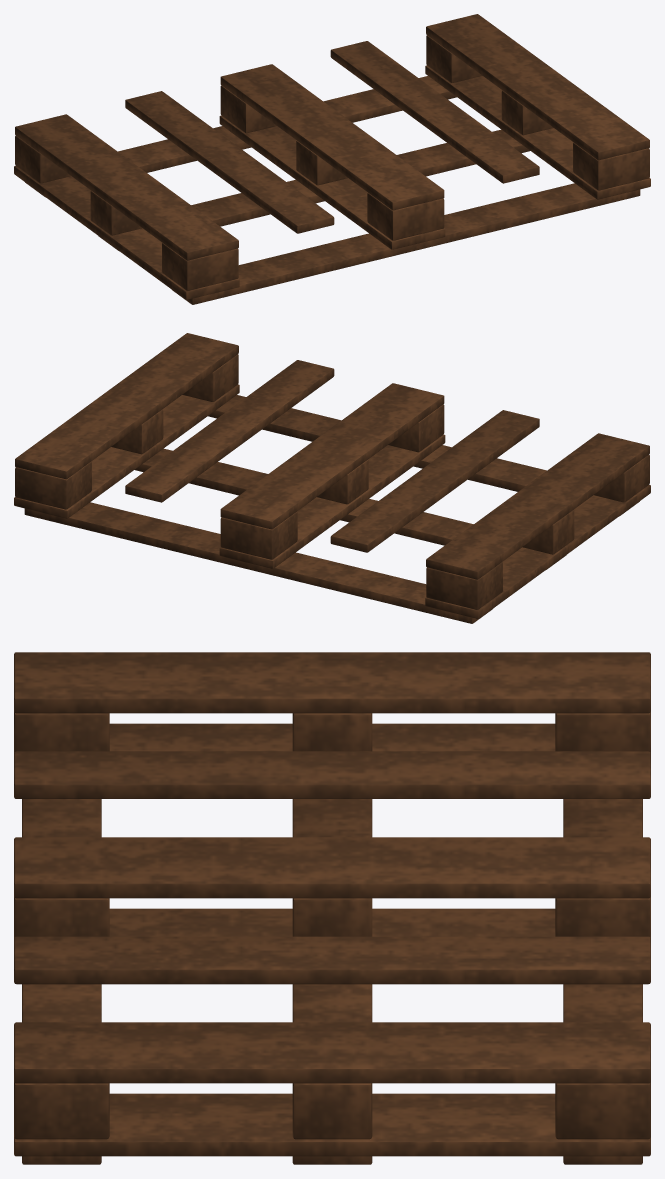
Rendered from Pallet.fbx.
3 views of the same model, one above another, from view 1: azimuth 30°, elevation 25°; view 2: azimuth 150°, elevation 25°; view 3: azimuth 270°, elevation 25° (orthographic). The views are drawn at different scales.
Parts seen in each view (by area): view 1: Pallet; view 2: Pallet; view 3: Pallet.
Part boxes in pixels (x1,y1,x2,y2): Pallet: (14, 14, 650, 304); Pallet: (14, 333, 650, 623); Pallet: (14, 652, 650, 1164).
Size of the model in its own units: 1.25 by 0.144 by 0.8.
